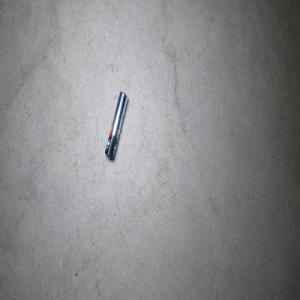Battery: (104, 90, 128, 161)
